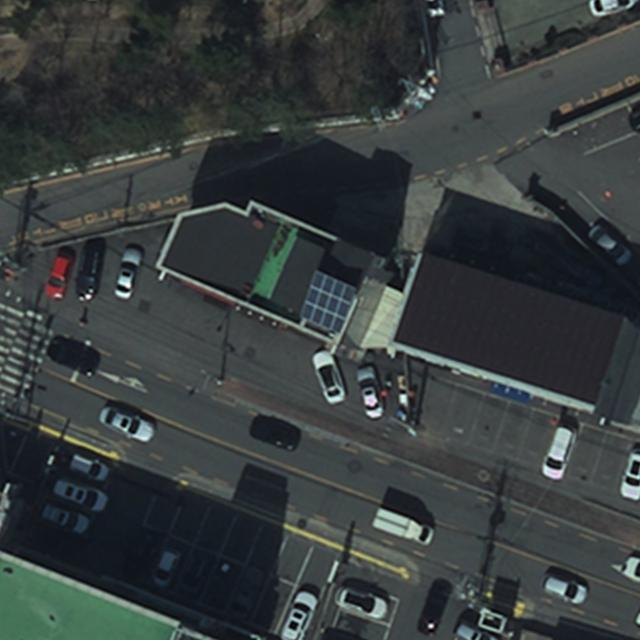panel: (301, 265, 360, 337)
